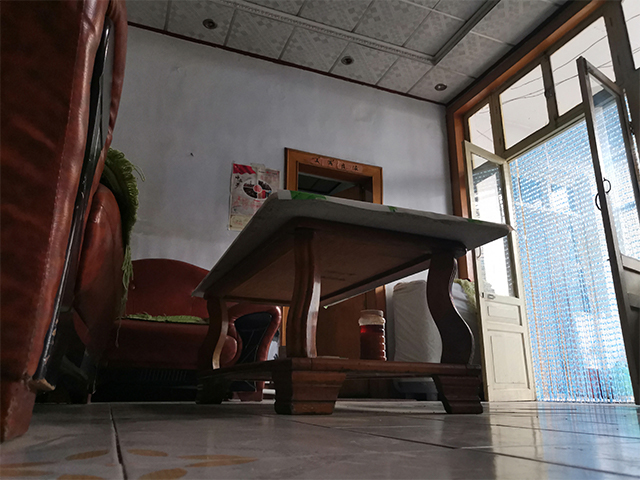sofa: (98, 254, 283, 403)
table: (187, 185, 515, 416)
